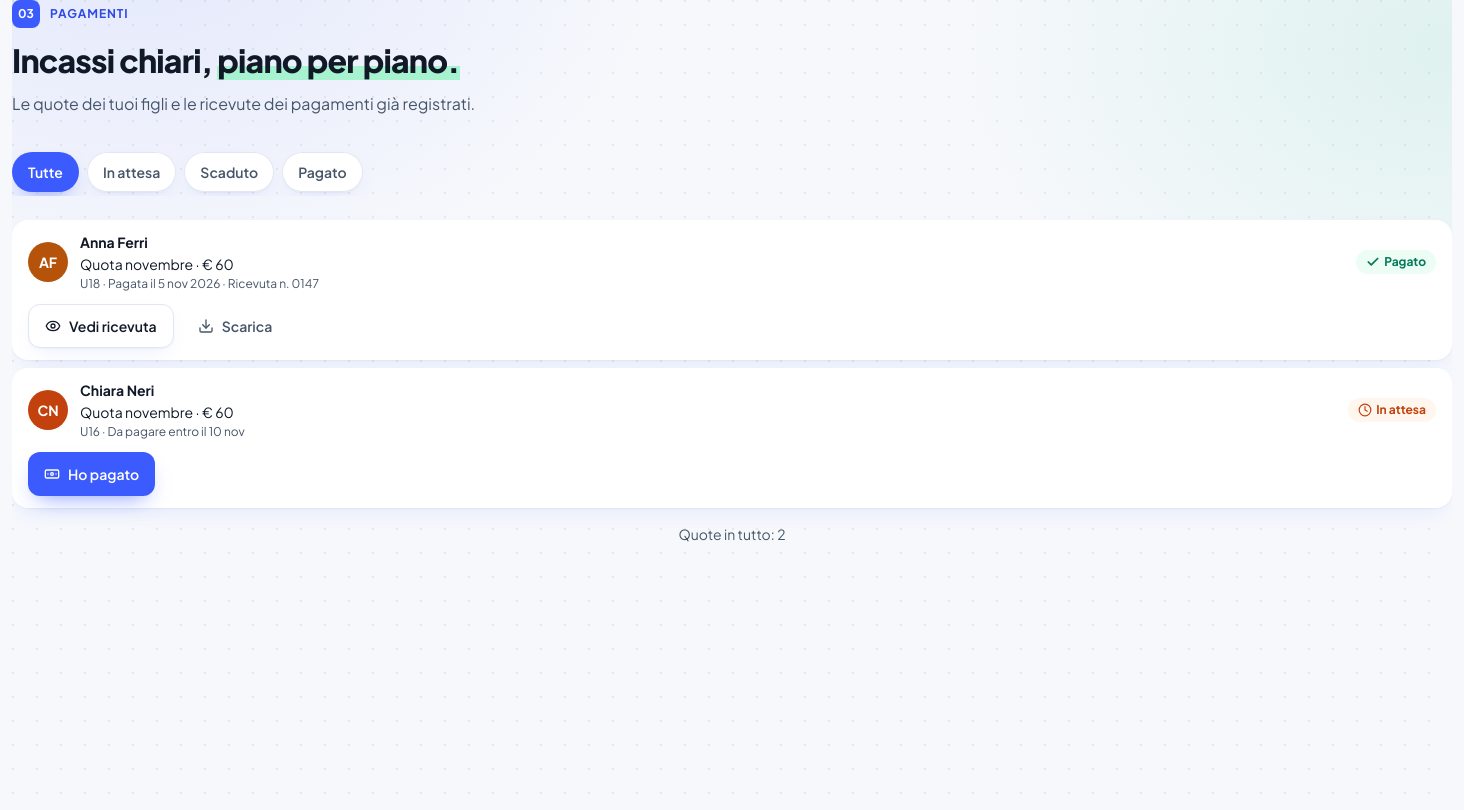
Test: QuotePage for an athlete or a guardian › filters their fees by status through the API and offers to show them all again
The width and height of the screenshot is (1464, 810).
Expected: the text "Anna Ferri" is shown, [80,233,148,251]
Click the button "Pagato": x=322, y=172 [282,152,363,192]
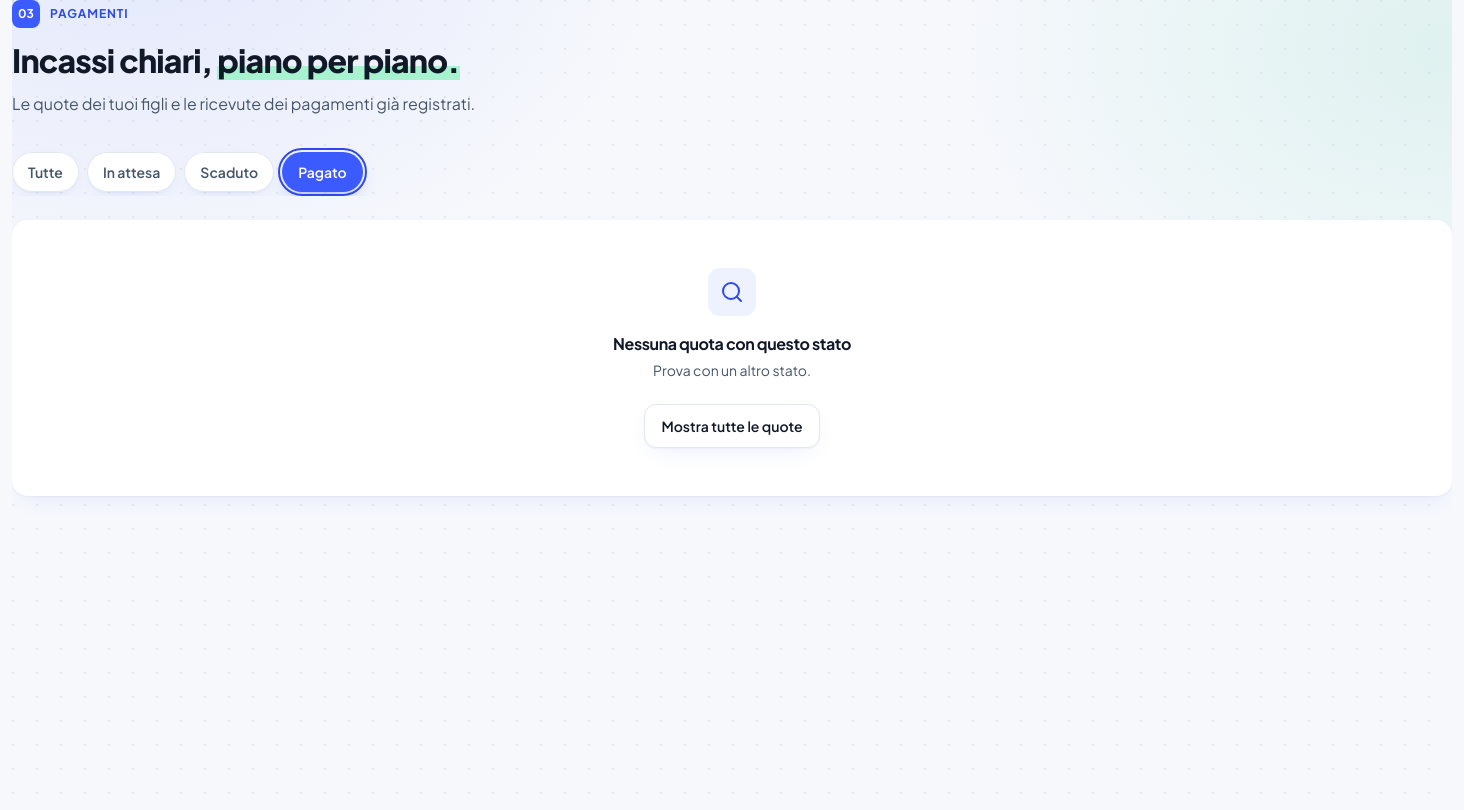
Expected: the heading "Nessuna quota con questo stato" is shown, [613,332,851,356]
Click the button "Mostra tutte le quote": x=732, y=426 [644,404,820,448]
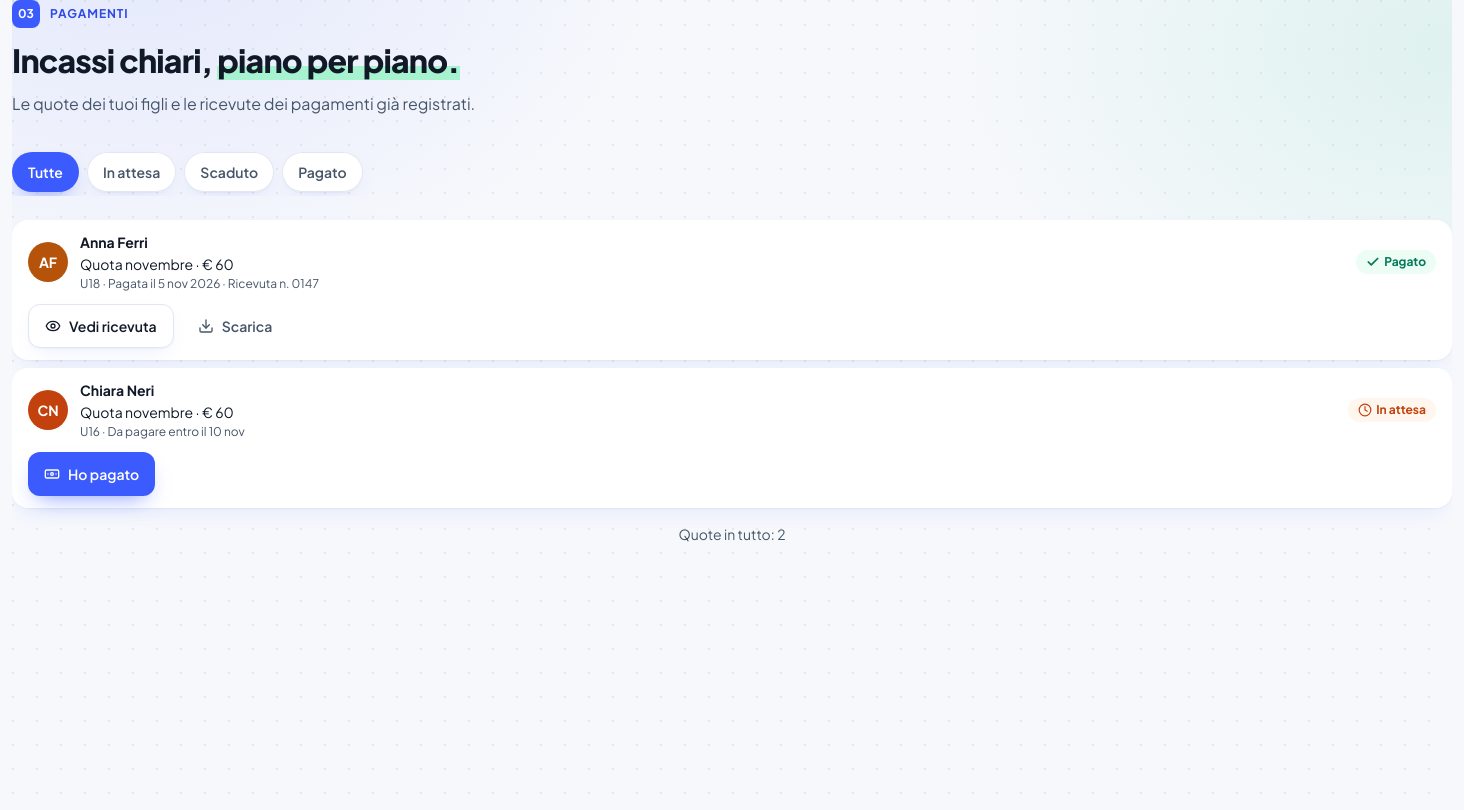
Expected: the text "Anna Ferri" is shown, [80,233,148,251]
